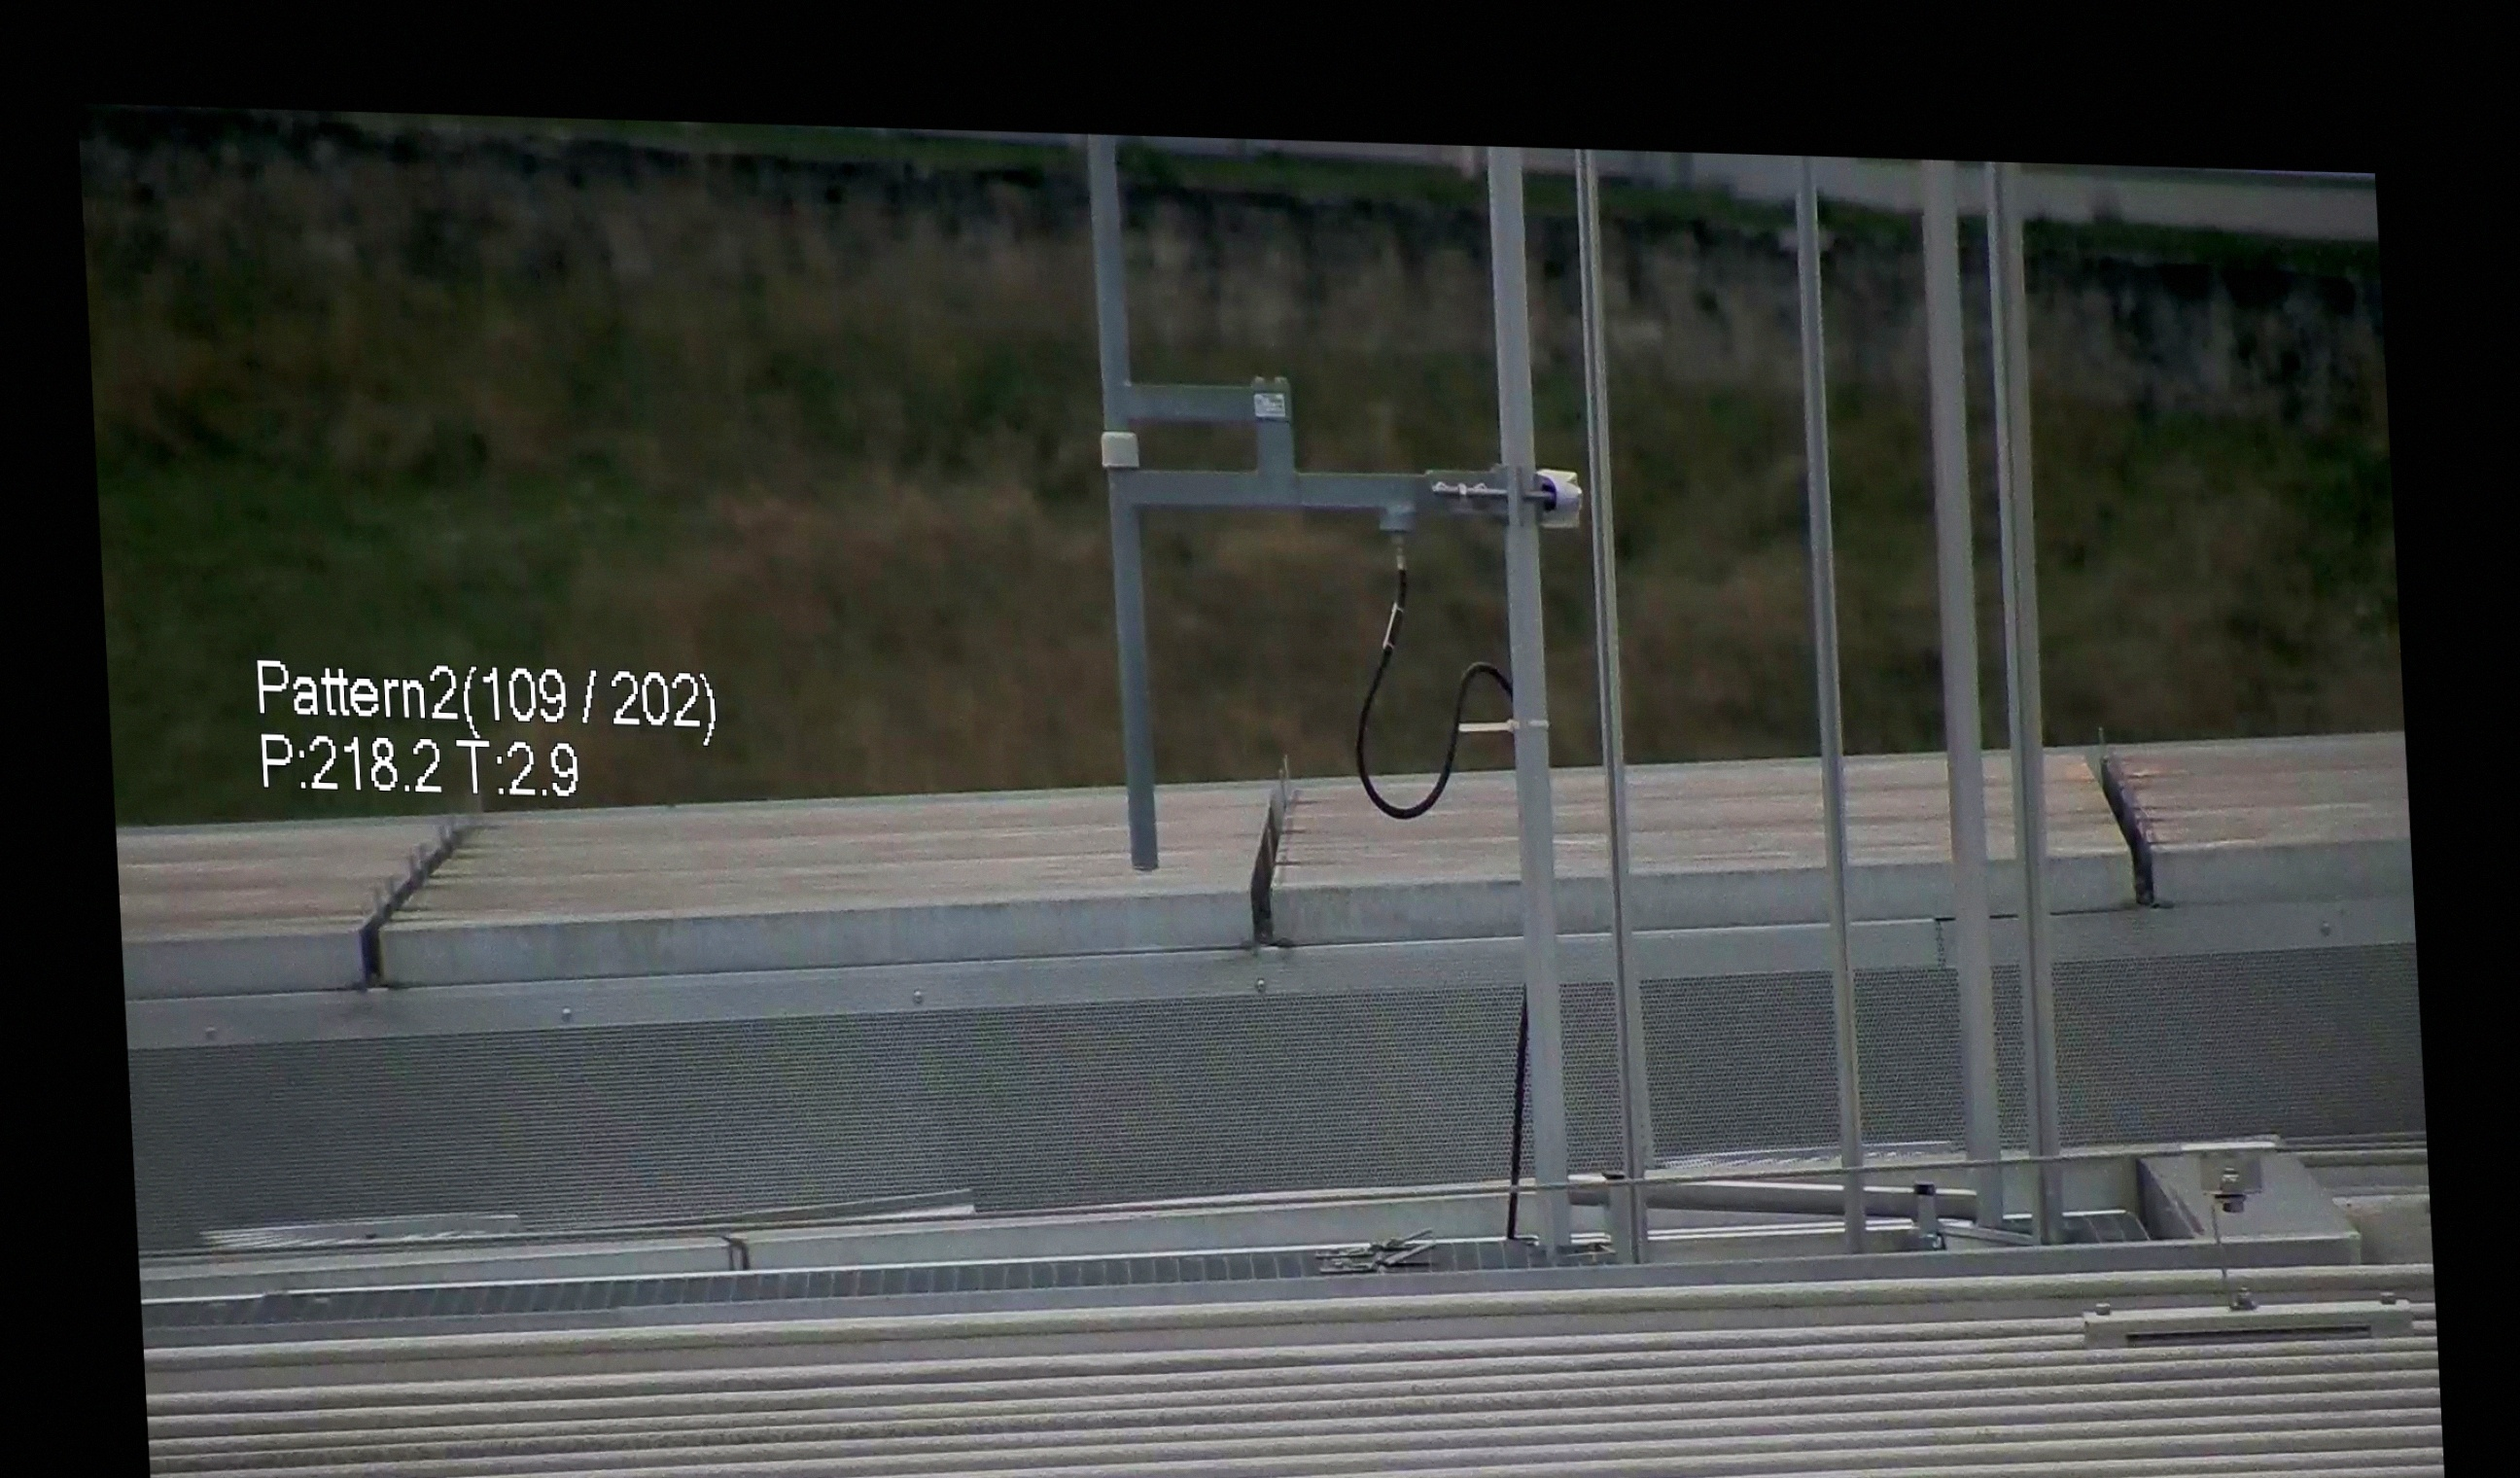Other: (2086, 732, 2177, 911)
